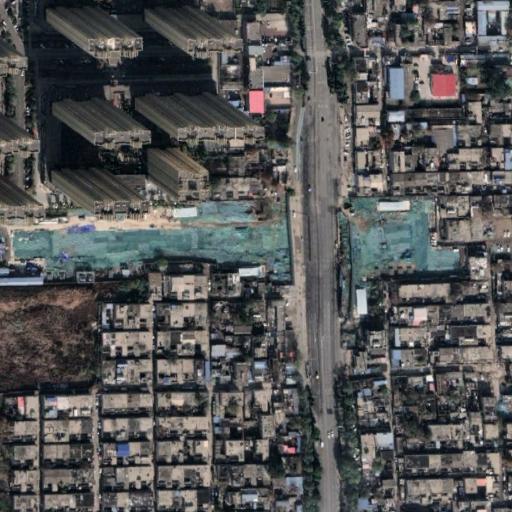cw: (8, 197, 292, 286), (338, 195, 467, 286)
